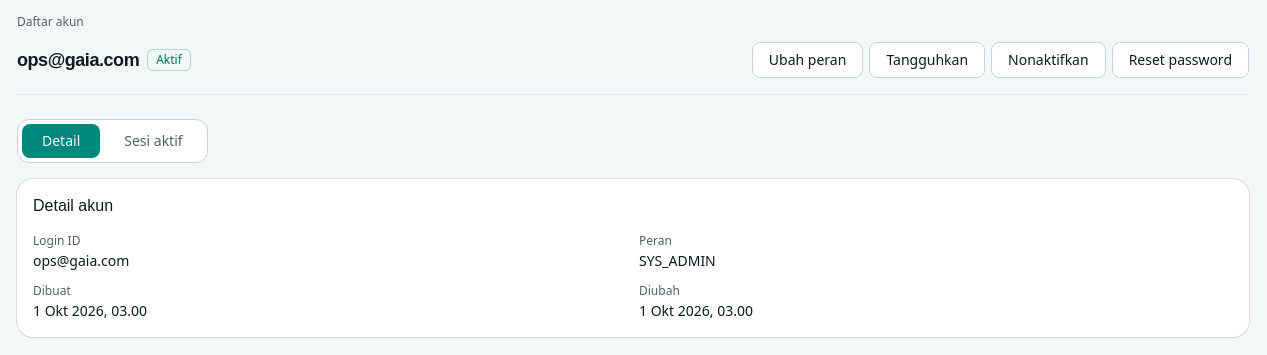
Test: Sesi aktif tab (D4.10) › shows the empty state
expect the heading "ops@gaia.com" is shown: met, box top-left (17, 46), bottom-right (139, 74)
Click the tab "Sesi aktif". click: point(154, 141)
box: top-left (104, 124), bottom-right (203, 158)
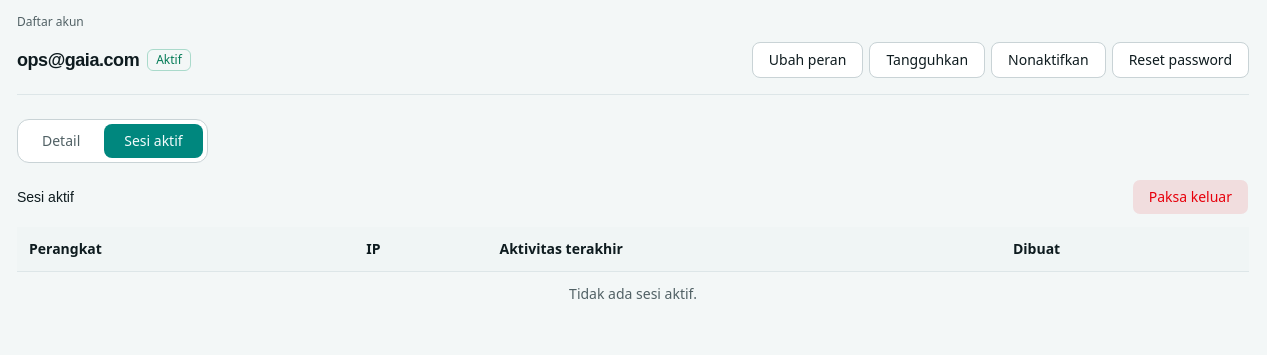
expect the text "Tidak ada sesi aktif." is shown: met, box top-left (17, 271), bottom-right (1249, 316)
